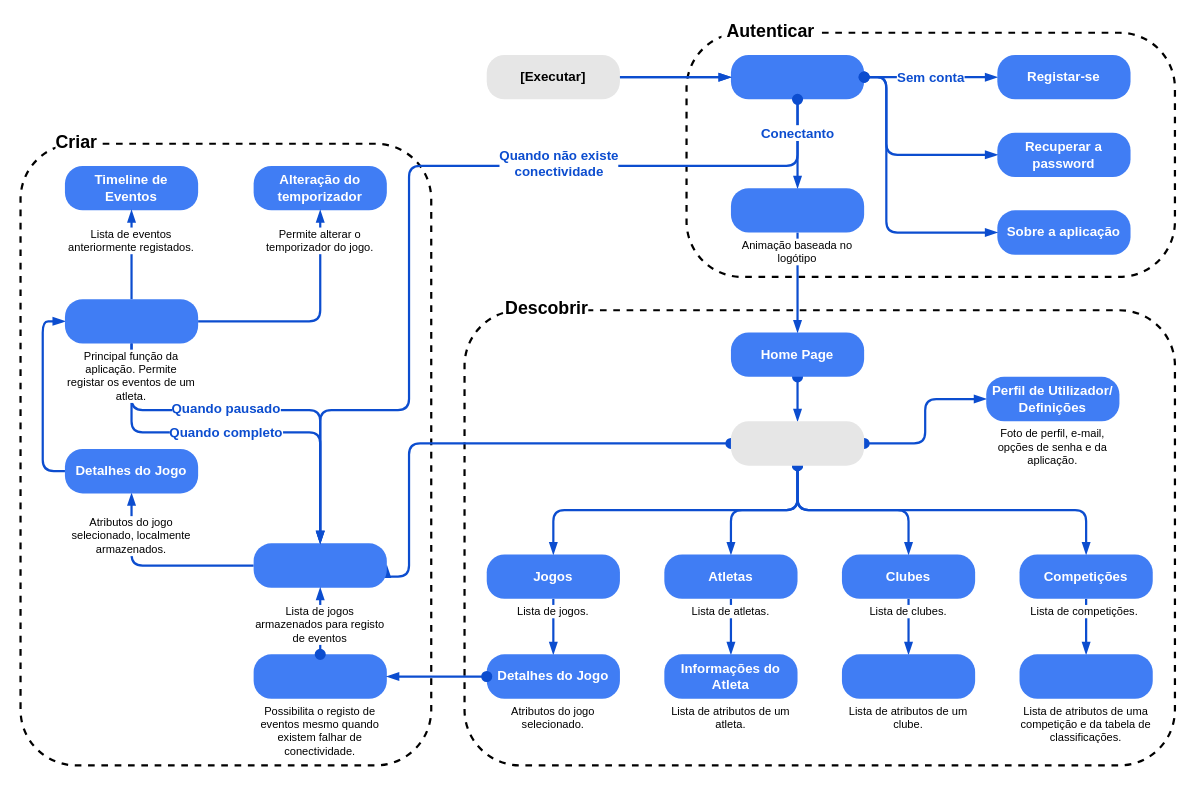
This 1194x785 diagram has some shape labels left out. Here are the shapes that lost their labels. From the top down, the centre of each, then its label:
the point at 797,76: Entrar
the point at 797,210: [Animação de Entrada]
the point at 131,321: Eventos
the point at 797,443: [Menu]
the point at 319,565: Observar
the point at 319,676: Guardar o jogo locamente
the point at 908,676: Informações do Clube
the point at 1085,676: Informações da Competição
